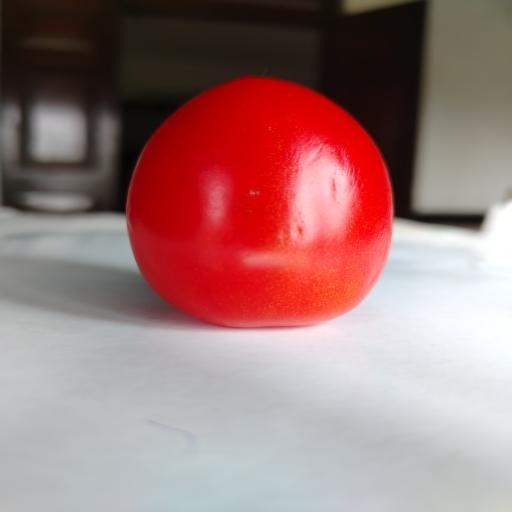ripe: (126, 77, 392, 327)
